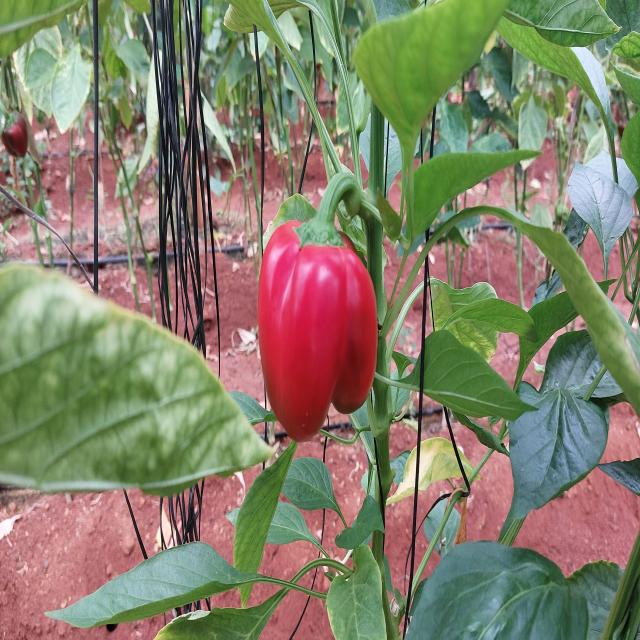Red-Ready-to-Harvest: (260, 216, 389, 455)
